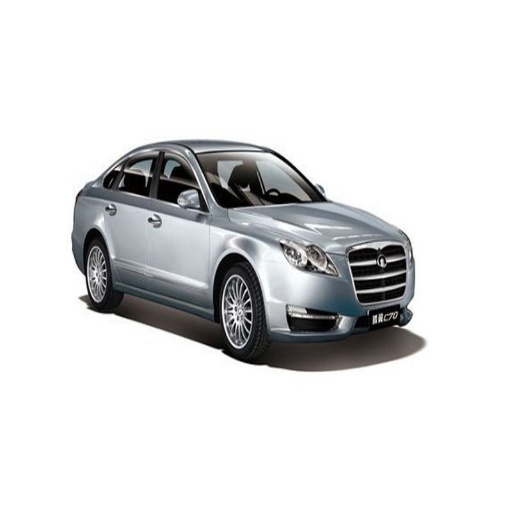front_bumper: (263, 239, 414, 339)
front_right_door: (147, 148, 210, 300)
front_right_light: (275, 236, 335, 274)
